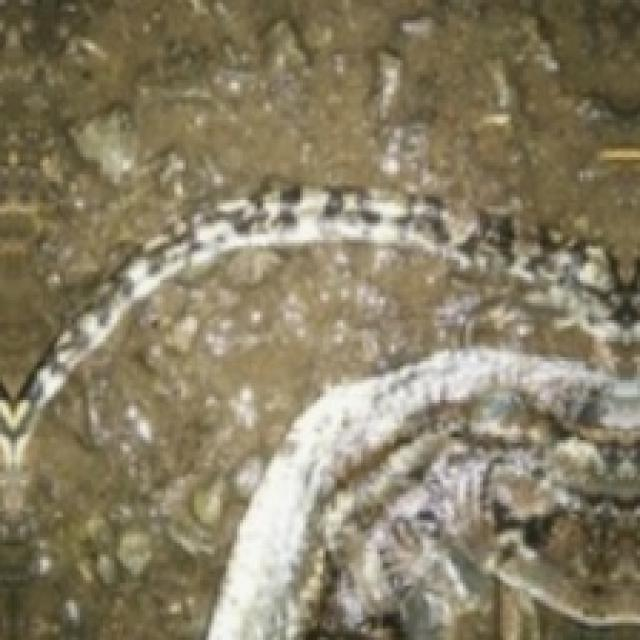reticulated python: (0, 186, 640, 469)
